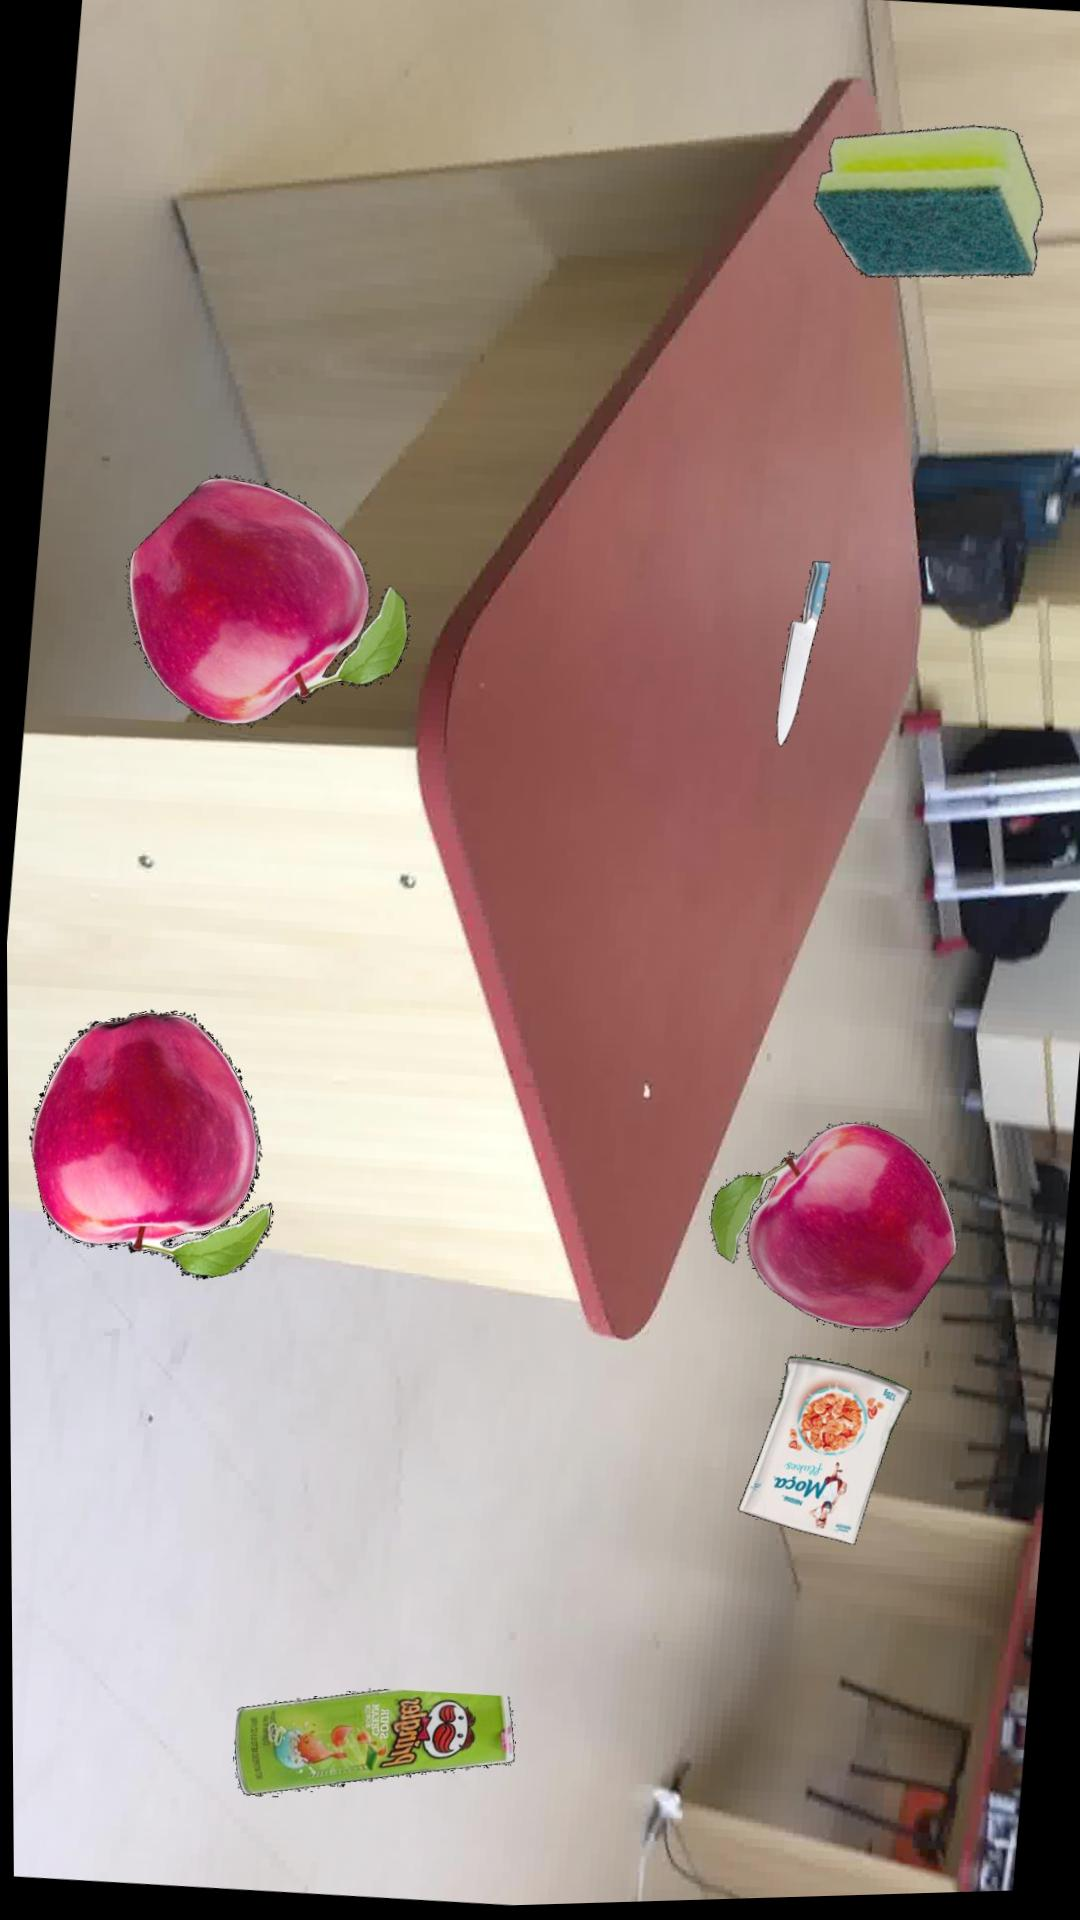apple: (125, 479, 406, 728), (25, 1013, 268, 1282), (707, 1129, 952, 1337)
corn flakes: (733, 1362, 907, 1552)
knife: (773, 567, 827, 753)
pringles: (229, 1693, 510, 1800)
sponge: (811, 132, 1040, 285)
